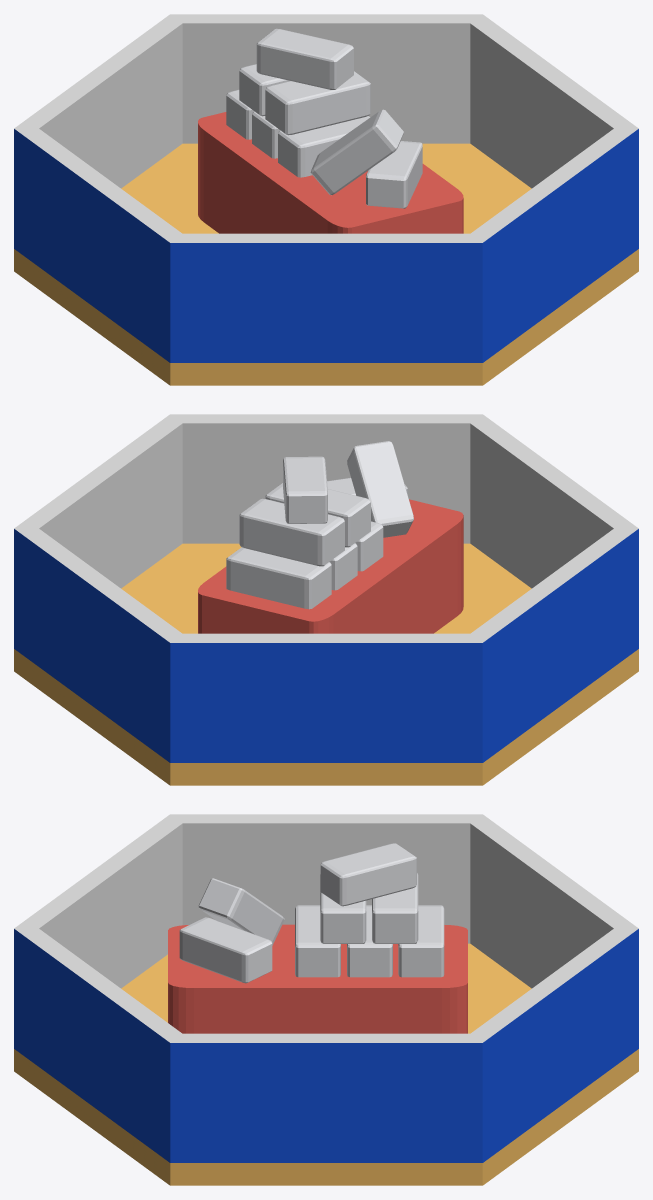
The model's file is beeswaxFactory.fbx.
3 renders of one model, top to bottom at view 1: azimuth 30°, elevation 25°; view 2: azimuth 150°, elevation 25°; view 3: azimuth 270°, elevation 25°, orthographic.
Parts seen in each view (by area): view 1: HexFloor, Cube.008; view 2: HexFloor, Cube.008; view 3: HexFloor, Cube.008.
Part boxes in pixels (bbox=[...]): HexFloor: bbox=[14, 14, 638, 385]; Cube.008: bbox=[198, 28, 463, 233]; HexFloor: bbox=[14, 414, 638, 785]; Cube.008: bbox=[198, 441, 463, 633]; HexFloor: bbox=[14, 814, 638, 1185]; Cube.008: bbox=[168, 843, 467, 1033].
Size of the model in its own units: 86.6 by 37.47 by 100.
